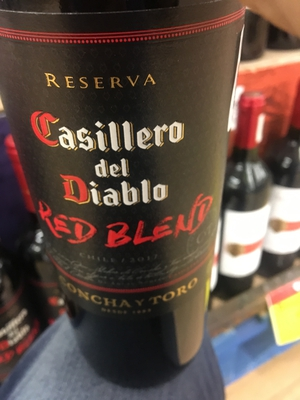casillero del diablo red blend: (3, 14, 257, 374)
